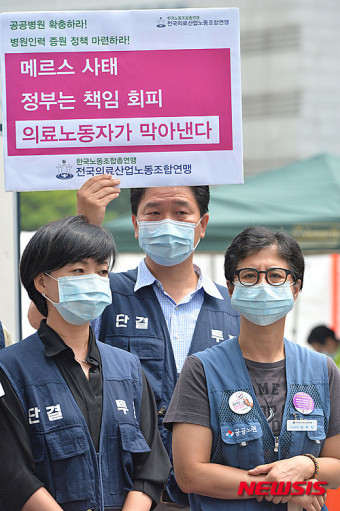mask: (54, 273, 112, 326), (230, 281, 295, 326), (138, 220, 194, 267)
